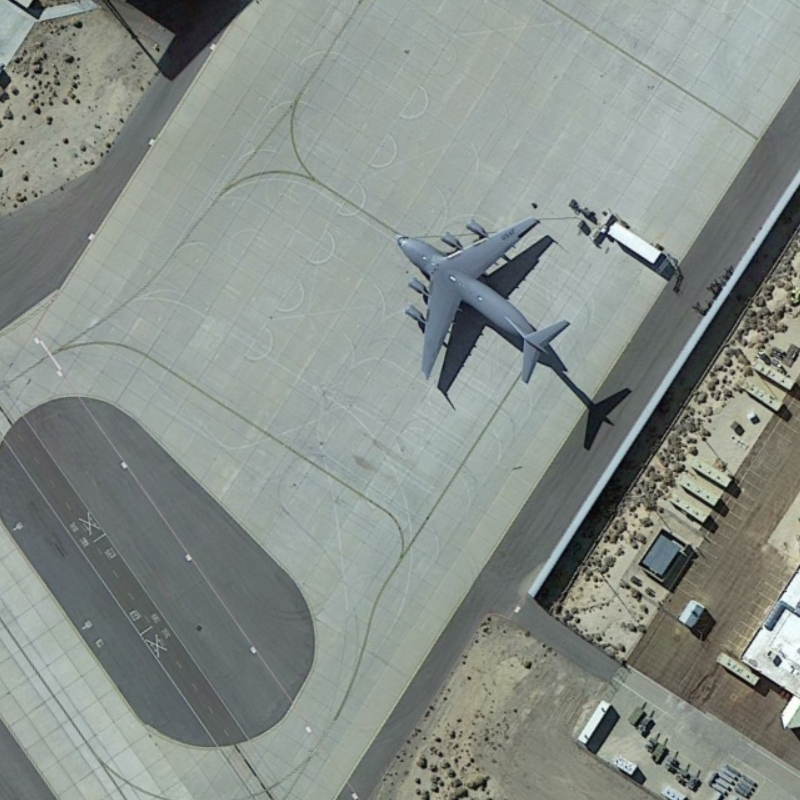A3: (387, 213, 579, 395)
